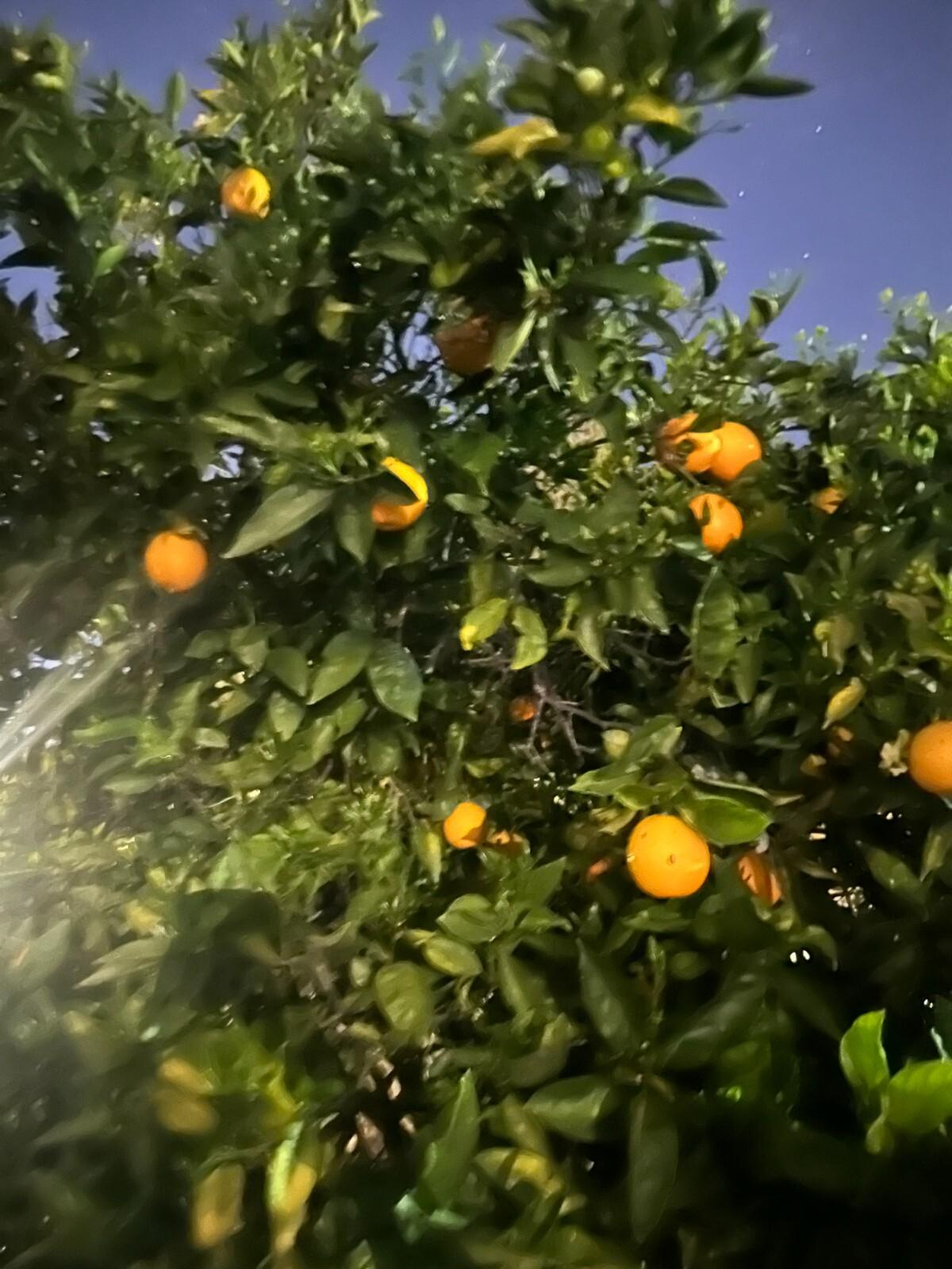orange: (628, 816, 711, 898), (655, 411, 724, 477), (369, 456, 427, 531), (144, 531, 208, 592), (436, 314, 501, 372), (908, 720, 951, 797), (710, 420, 763, 481), (690, 494, 743, 554), (736, 849, 782, 906), (221, 167, 271, 217), (482, 818, 530, 863), (443, 803, 486, 848), (810, 485, 846, 514), (509, 696, 537, 722)
